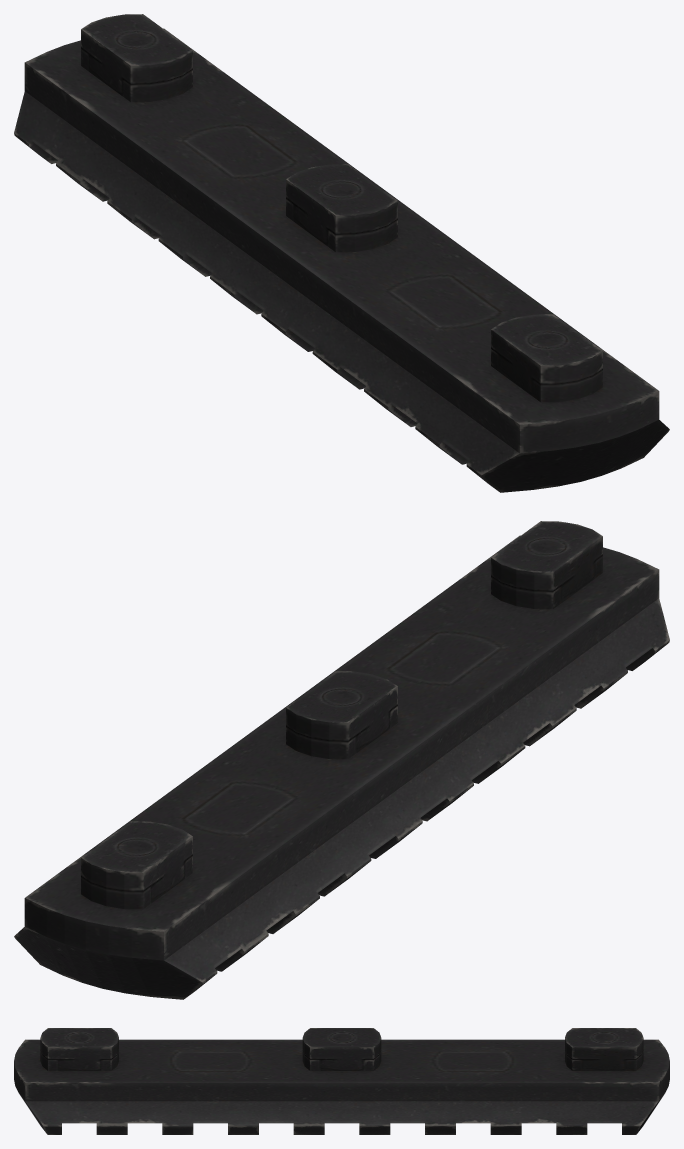
3 renders of one model, top to bottom at view 1: azimuth 30°, elevation 25°; view 2: azimuth 150°, elevation 25°; view 3: azimuth 270°, elevation 25°, orthographic. The views are drawn at different scales.
Parts seen in each view (by area): view 1: TW_5b7be4895acfc400170e2dd5_PZ_Import; view 2: TW_5b7be4895acfc400170e2dd5_PZ_Import; view 3: TW_5b7be4895acfc400170e2dd5_PZ_Import.
Boxes of the visible parts, x1,y1,x2,y2 form: TW_5b7be4895acfc400170e2dd5_PZ_Import: (14, 14, 669, 492); TW_5b7be4895acfc400170e2dd5_PZ_Import: (14, 521, 669, 999); TW_5b7be4895acfc400170e2dd5_PZ_Import: (14, 1028, 669, 1134).
Size of the model in its own units: 0.0123 by 0.0578 by 0.00727.
Materials: 1 (1 with a texture image).
